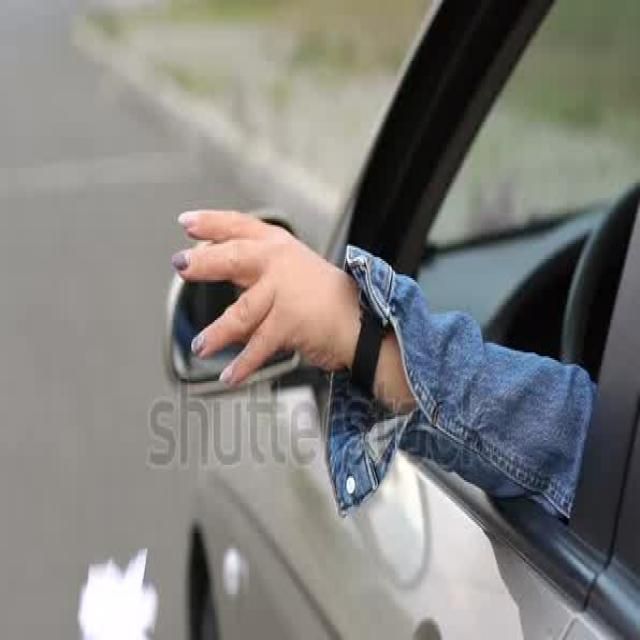trash: (73, 547, 163, 640)
